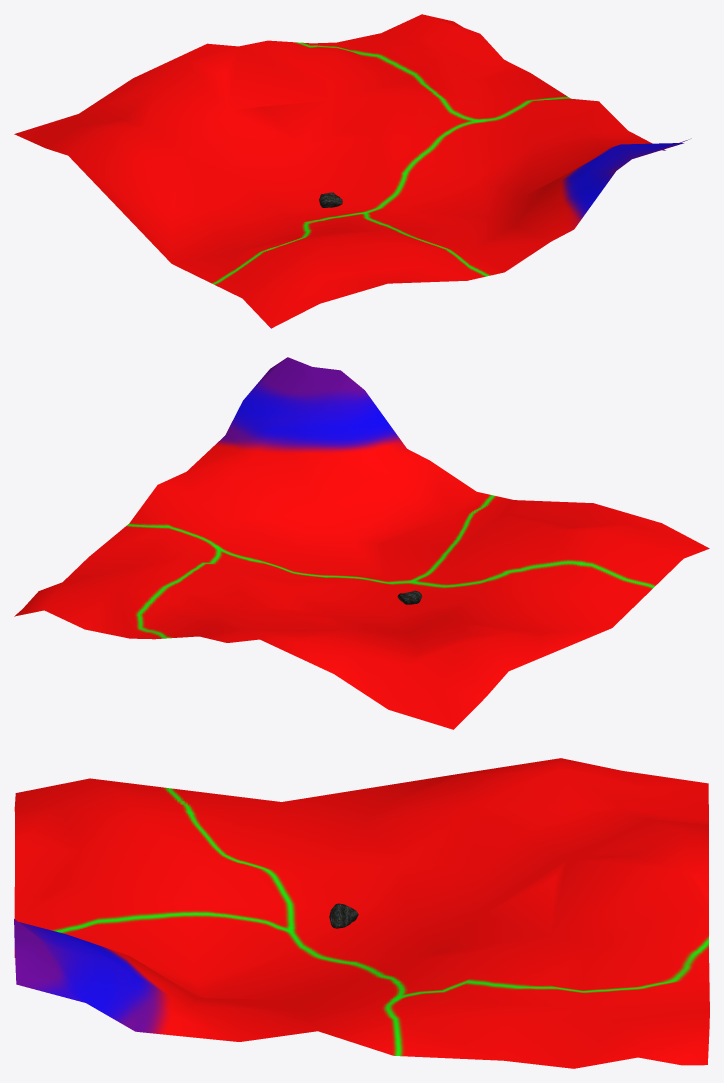
Rendered from zone0.glb.
The picture shows the model from 3 angles, top to bottom: view 1: azimuth 30°, elevation 25°; view 2: azimuth 150°, elevation 25°; view 3: azimuth 270°, elevation 25°; orthographic projection. The views are drawn at different scales.
Parts seen in each view (by area): view 1: terrainStart; view 2: terrainStart; view 3: terrainStart, rock1.
Part boxes in pixels (x1,y1,x2,y2): terrainStart: [14, 14, 691, 328]; terrainStart: [14, 357, 709, 729]; terrainStart: [14, 758, 709, 1068]; rock1: [329, 903, 358, 928].
Size of the model in its own units: 947 by 203 by 958.
Materials: 2 (2 with a texture image).
